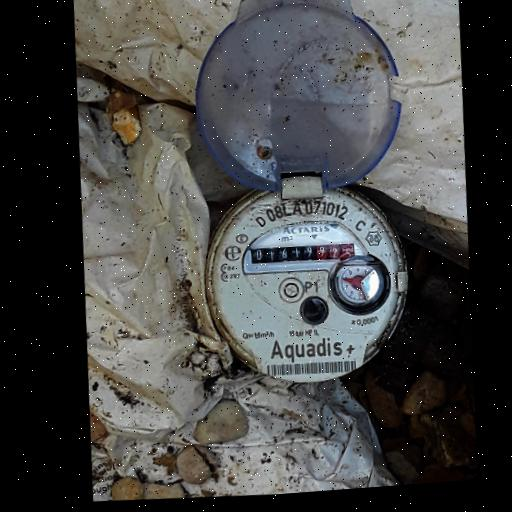0: (254, 248, 266, 264)
1: (291, 245, 301, 261), (267, 247, 277, 262)
2: (327, 244, 340, 260)
5: (341, 243, 355, 259)
6: (279, 246, 290, 262)
9: (303, 244, 315, 260), (316, 244, 328, 260)
border_water_meter_number: (248, 235, 355, 270)
